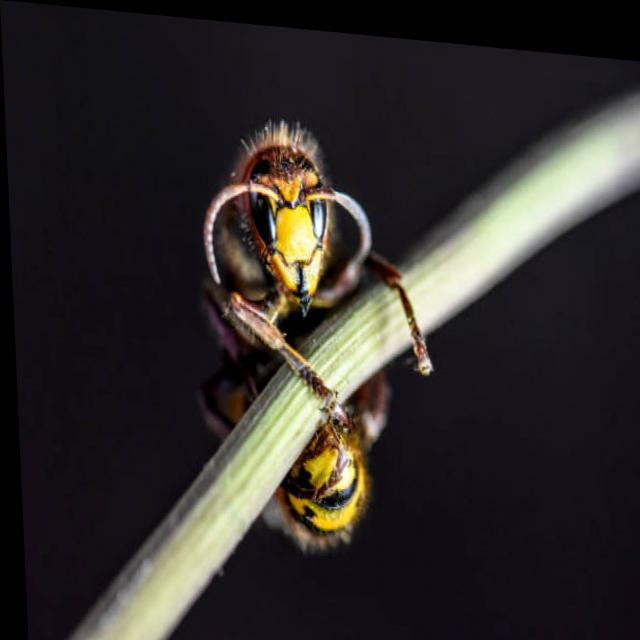Vespa Crabro: (153, 76, 458, 567)
